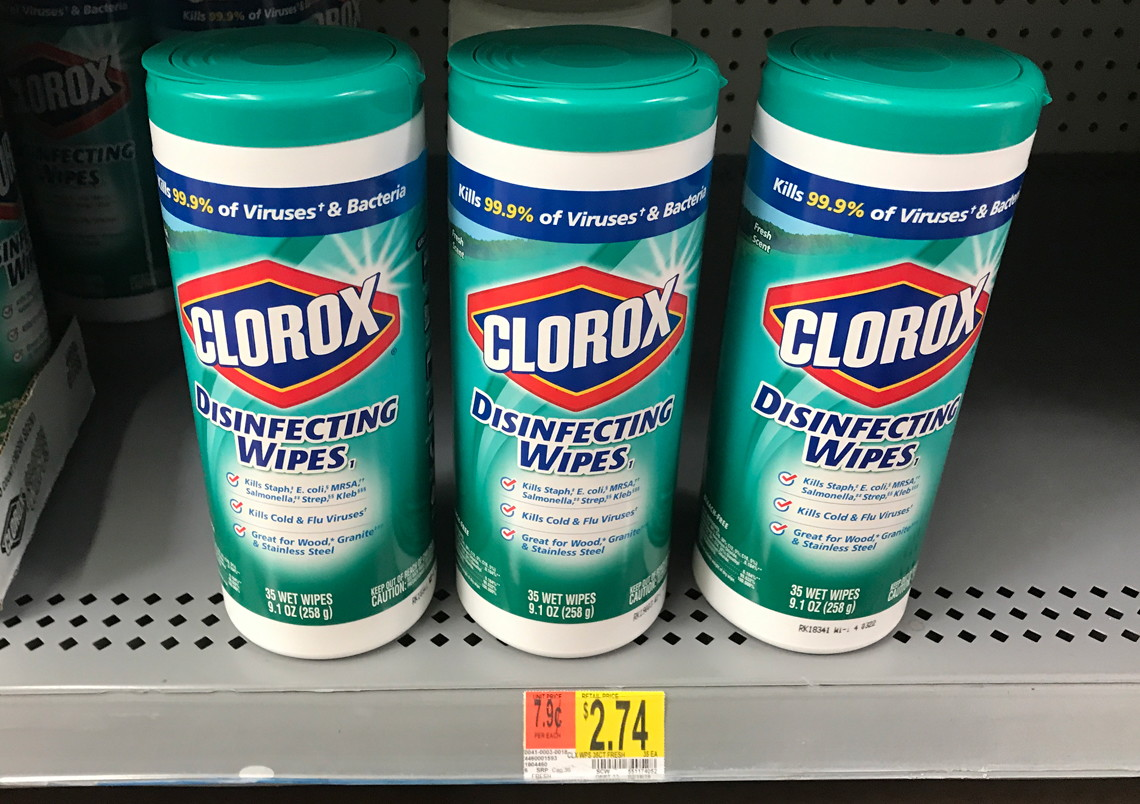Wipes: (688, 3, 1058, 661), (427, 14, 731, 670), (132, 18, 438, 667), (10, 2, 175, 331)
